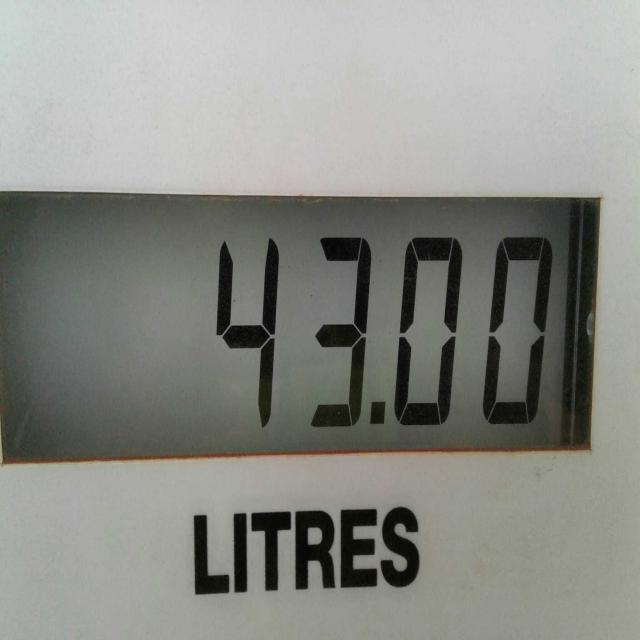.: (361, 382, 394, 440)
0: (387, 227, 472, 436), (481, 215, 558, 435)
3: (298, 227, 370, 450)
4: (203, 220, 286, 436)
